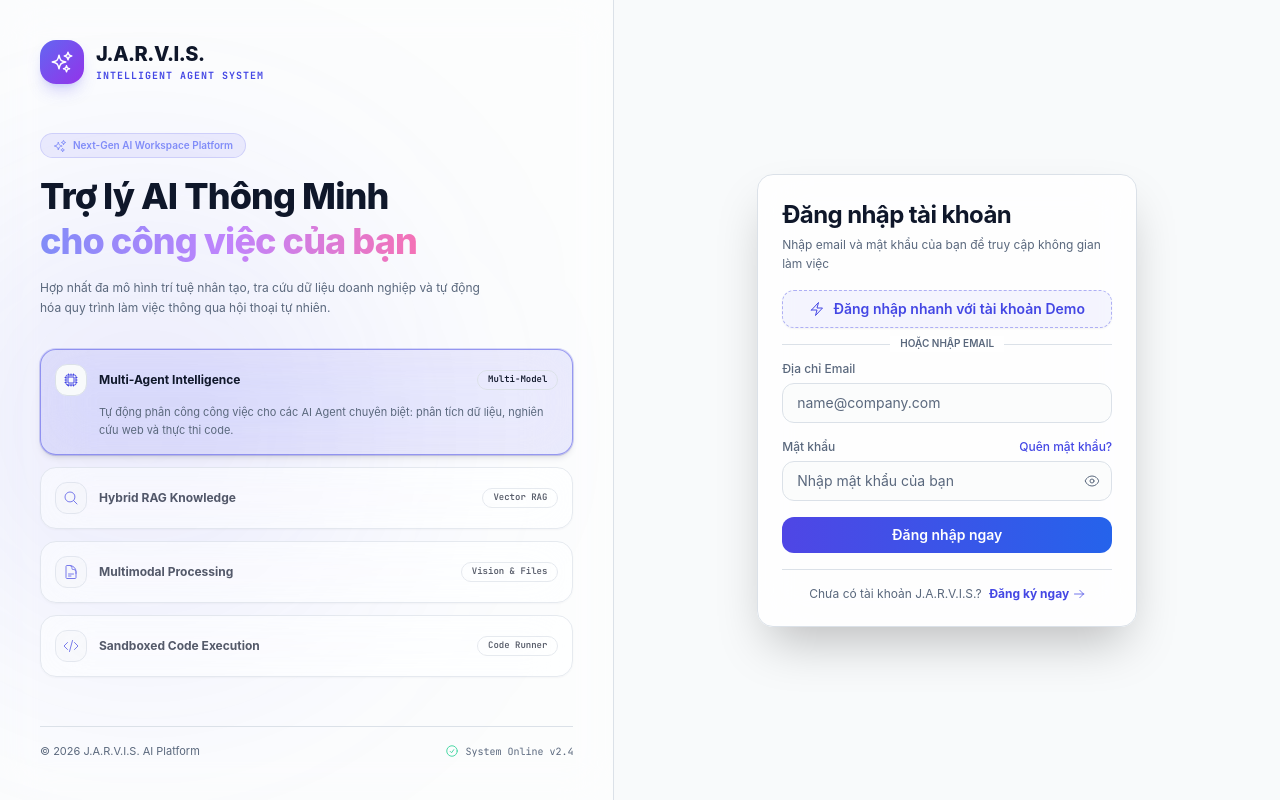
Test: LoginPage › shows the translated fallback toast on generic login failure (vi)
Type "user@example.com" into the field labelled "Địa chỉ Email". click: (947, 402)
box: [782,382,1112,422]
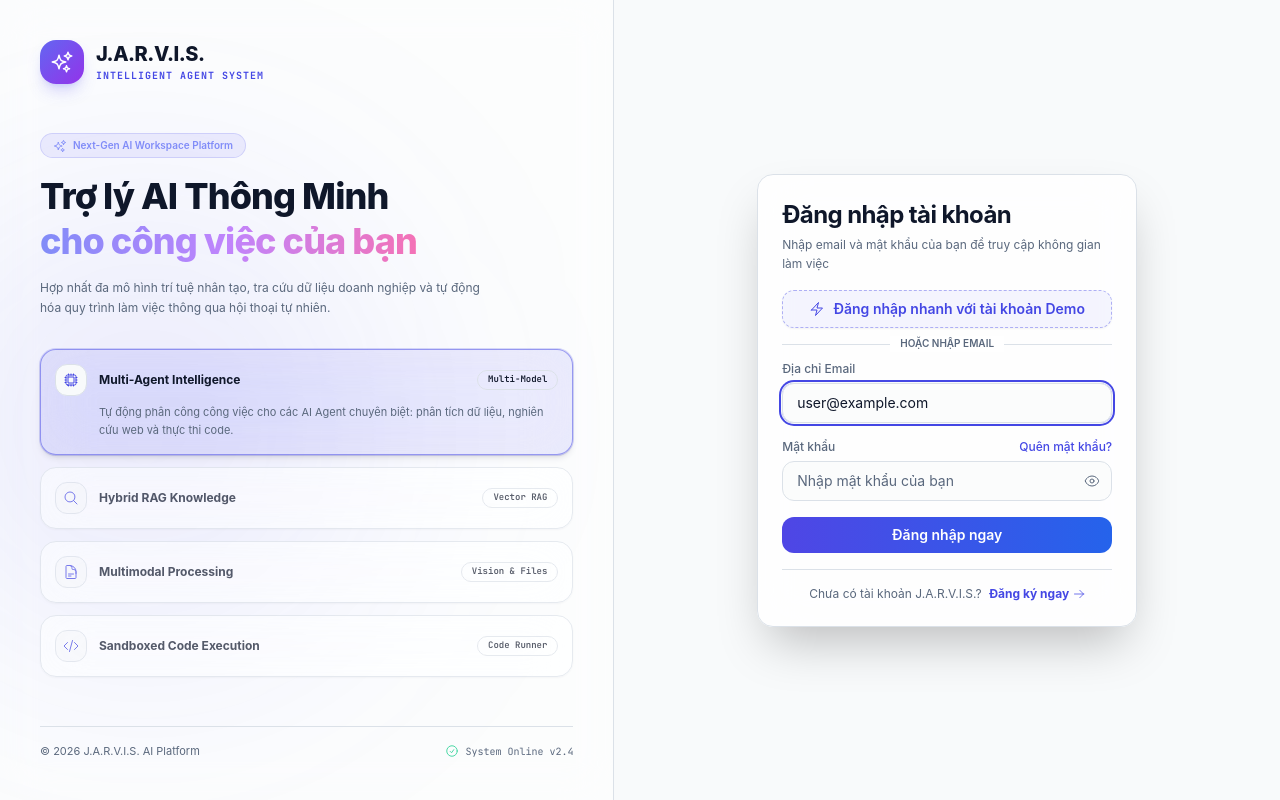
Type "password123" into the password field labelled "Mật khẩu". click: (947, 480)
box: [782,460,1112,500]
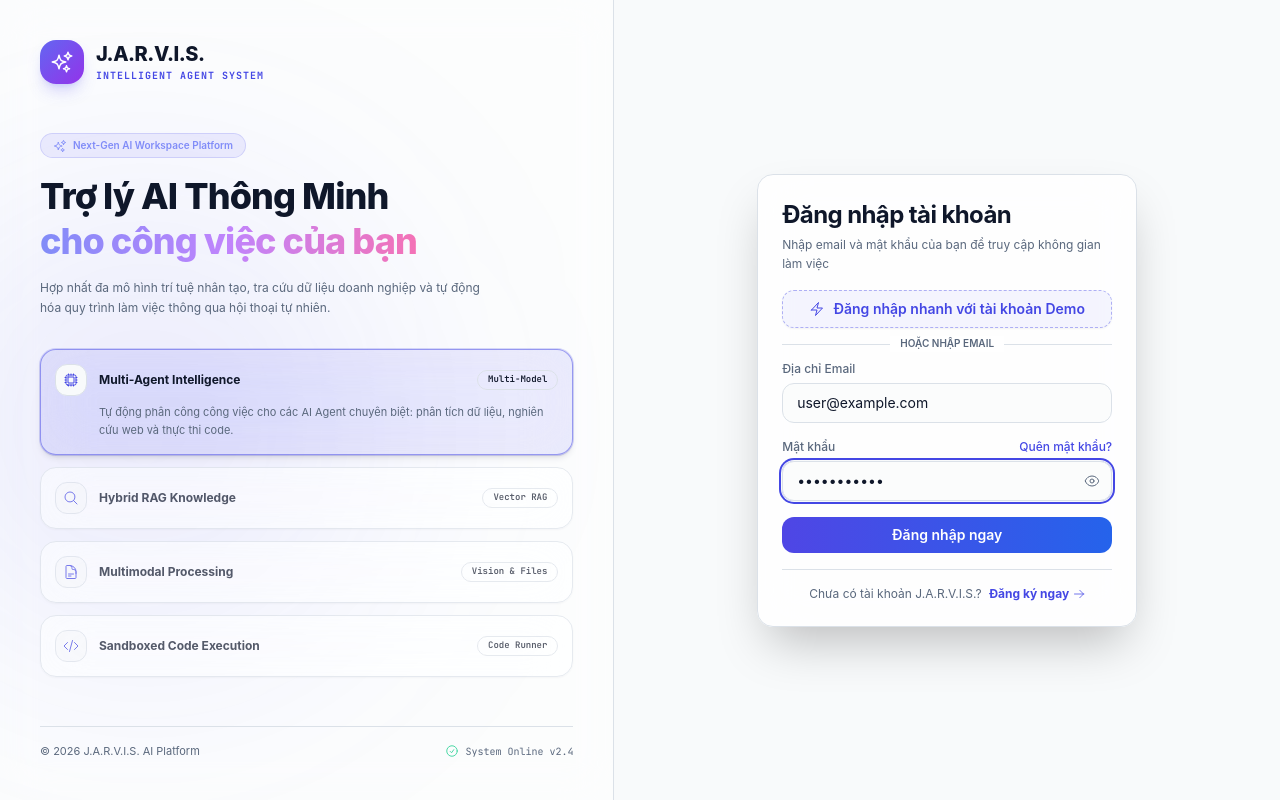
Click the button "Đăng nhập ngay". click: (947, 534)
box: [782,516,1112,552]
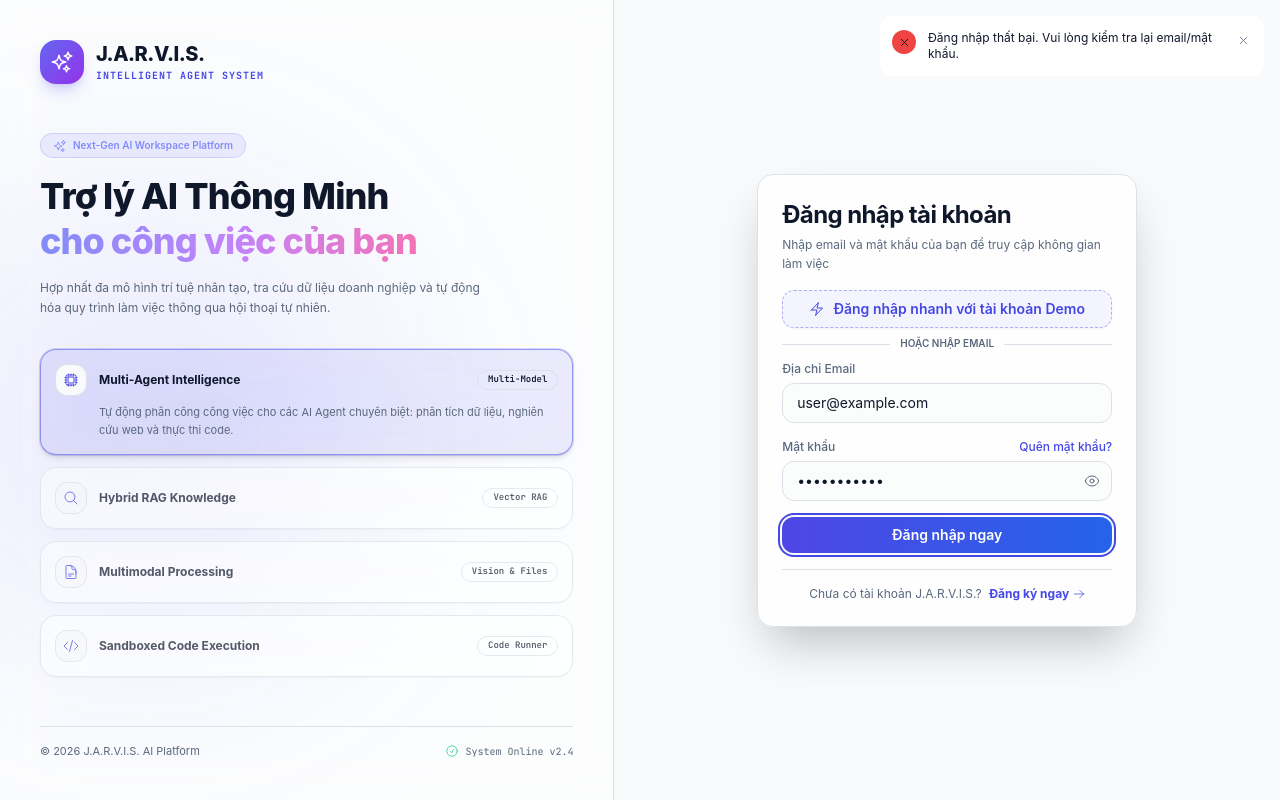
expect the text "Đăng nhập thất bại. Vui lòng kiểm tra lại email/mật khẩu." is shown: met, box [928,28,1219,64]
